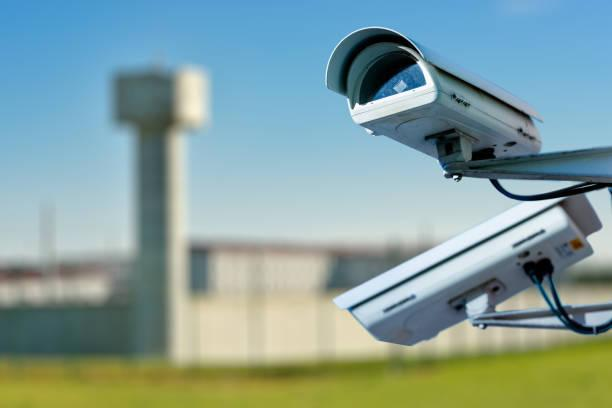camera: (327, 180, 604, 400), (305, 3, 552, 193)
